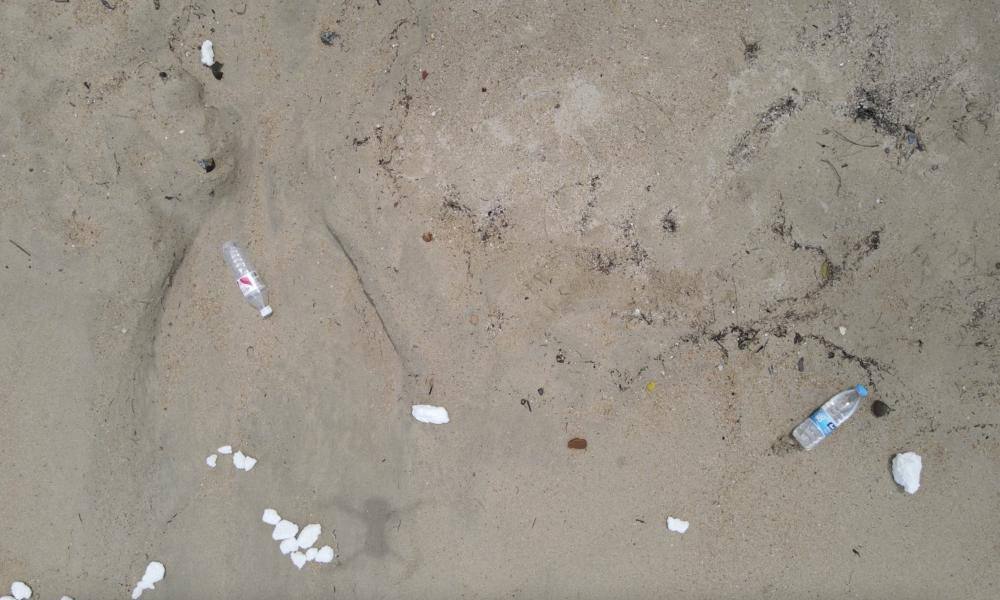plastic bottle: (794, 382, 865, 449), (223, 239, 272, 318)
styrofoam: (263, 507, 332, 566), (888, 450, 924, 494), (217, 445, 255, 469), (412, 400, 450, 423), (132, 563, 162, 592), (667, 514, 690, 534), (202, 39, 216, 66)
